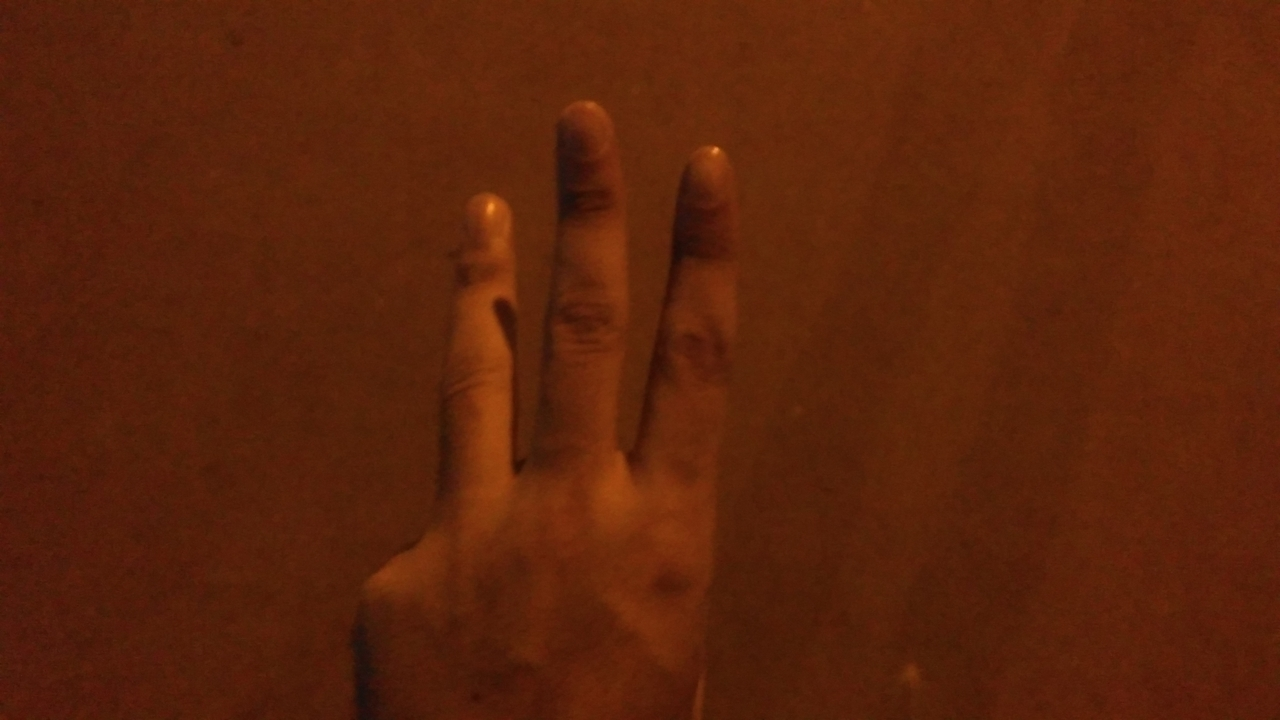fingertip: (678, 136, 742, 194), (454, 182, 516, 238), (554, 96, 614, 150)
